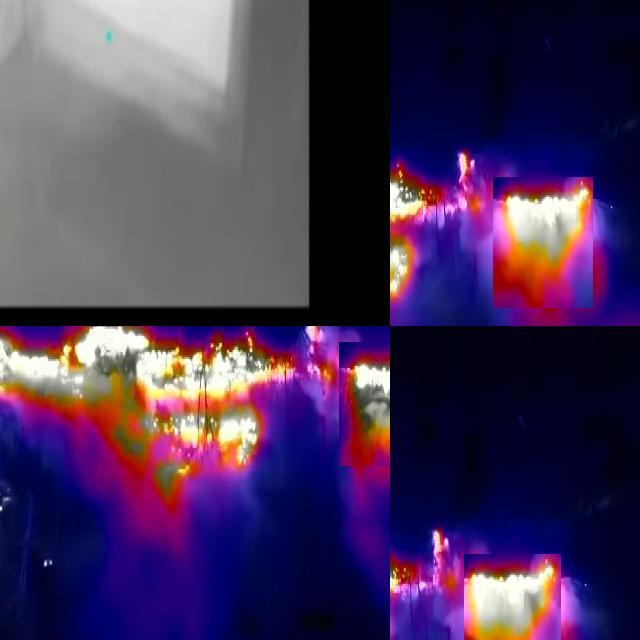fire: (1, 327, 334, 478), (391, 143, 481, 323), (494, 178, 594, 309), (465, 555, 562, 640), (340, 343, 391, 467)
